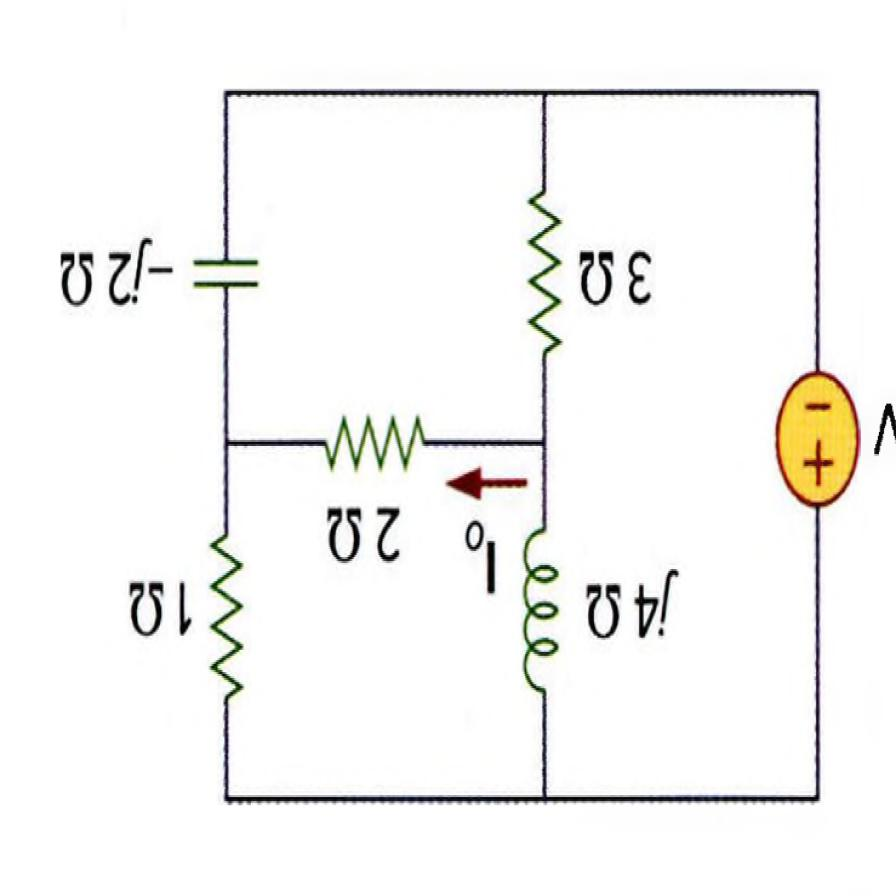C2: (187, 233, 265, 318)
L2: (521, 520, 563, 713)
R2: (519, 174, 571, 368), (205, 511, 250, 715)
V3: (770, 361, 866, 524)
